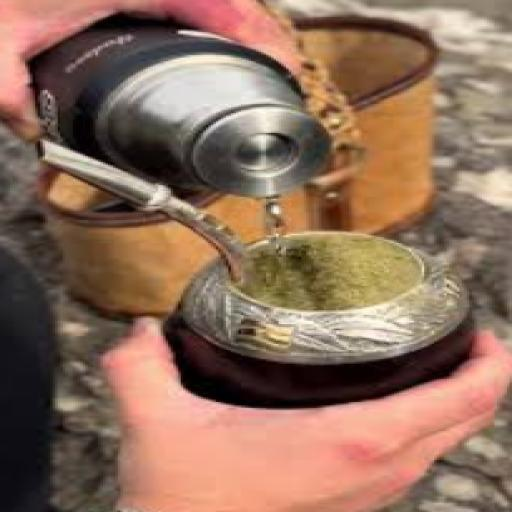mate: (166, 231, 472, 407)
termo: (33, 17, 329, 196)
